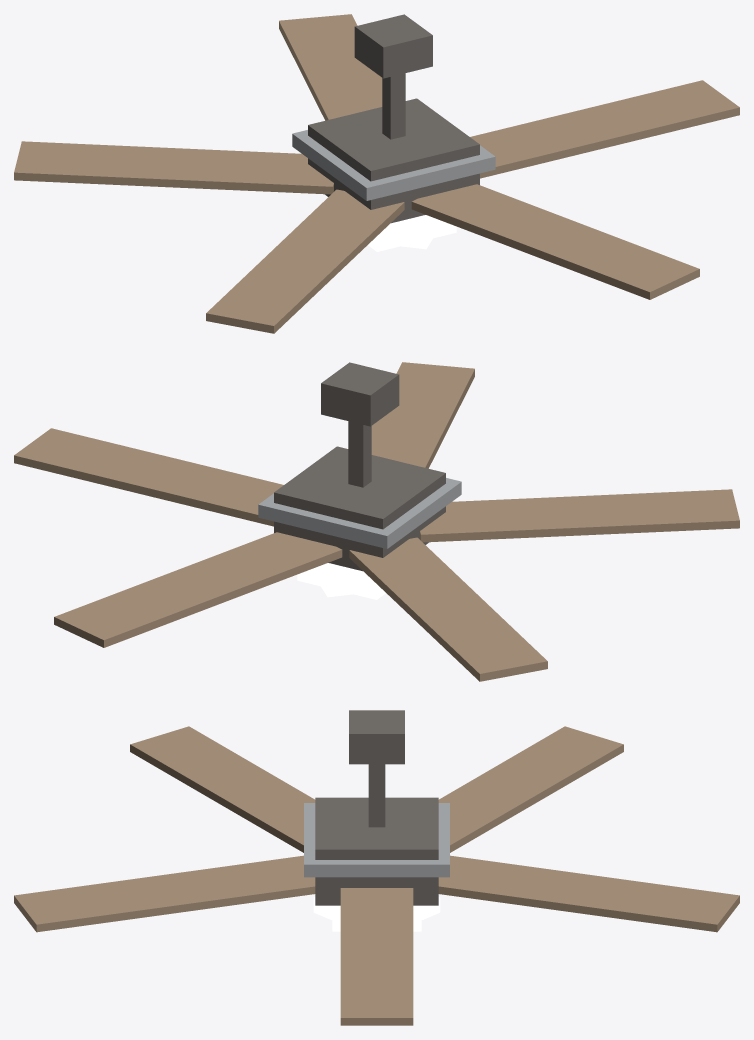
The model's file is ceiling-fan.gltf.
The picture shows the model from 3 angles, top to bottom: view 1: azimuth 30°, elevation 25°; view 2: azimuth 150°, elevation 25°; view 3: azimuth 270°, elevation 25°; orthographic projection. The views are drawn at different scales.
Visible parts, largest first — view 1: blade_1, blade_3, blade_2, blade_0, motor, blade_4, motor_trim, canopy, downrod, light_dome_x, light_dome; view 2: blade_4, blade_2, blade_3, blade_0, motor, blade_1, motor_trim, canopy, downrod, light_dome_x, light_dome; view 3: blade_1, blade_4, blade_0, motor, blade_2, blade_3, motor_trim, canopy, downrod, light_dome_x.
Part boxes in pixels (x1,y1,x2,y2): blade_1: (411,184,699,299); blade_3: (14,141,333,194); blade_2: (206,189,404,333); blade_0: (470,80,739,178); motor: (308,98,479,223); blade_4: (279,14,382,120); motor_trim: (292,130,495,200); canopy: (354,14,432,78); downrod: (382,73,405,139); light_dome_x: (385,215,435,249); light_dome: (368,219,456,251); blade_4: (54,532,342,647); blade_2: (420,489,739,542); blade_3: (349,537,547,681); blade_0: (14,428,283,526); motor: (274,446,445,571); blade_1: (371,362,474,468); motor_trim: (258,478,461,548); canopy: (321,362,399,426); downrod: (348,421,371,487); light_dome_x: (318,563,360,597); light_dome: (297,567,385,599); blade_1: (14,855,315,932); blade_4: (438,855,739,932); blade_0: (340,888,413,1025); motor: (315,797,438,905); blade_2: (130,726,315,852); blade_3: (438,726,623,852); motor_trim: (304,803,449,877); canopy: (349,710,404,764); downrod: (368,764,385,827); light_dome_x: (313,897,440,919).
Bounding box in the file's own units: 0.077 × 0.0234 × 0.081.
